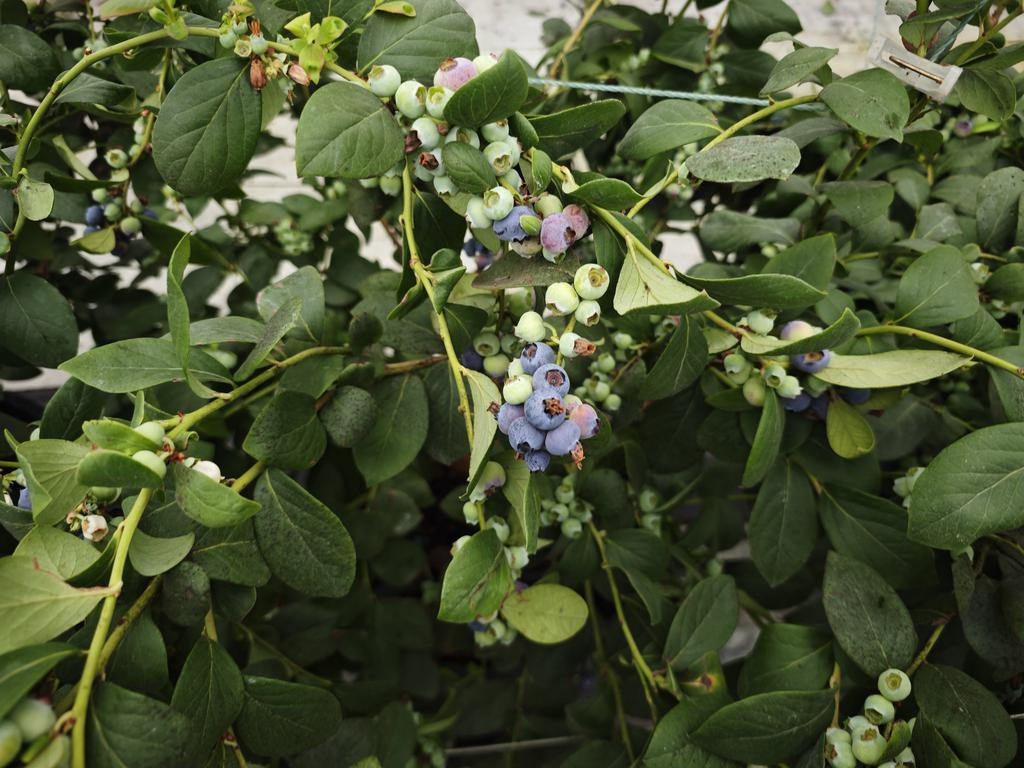RipeBlueBerry: (523, 387, 567, 431), (507, 417, 545, 458), (545, 421, 583, 458), (520, 341, 555, 373)
Semi-RipeBlueBerry: (541, 213, 576, 253)
UnripeBlueBerry: (573, 262, 610, 300), (545, 280, 579, 319)
